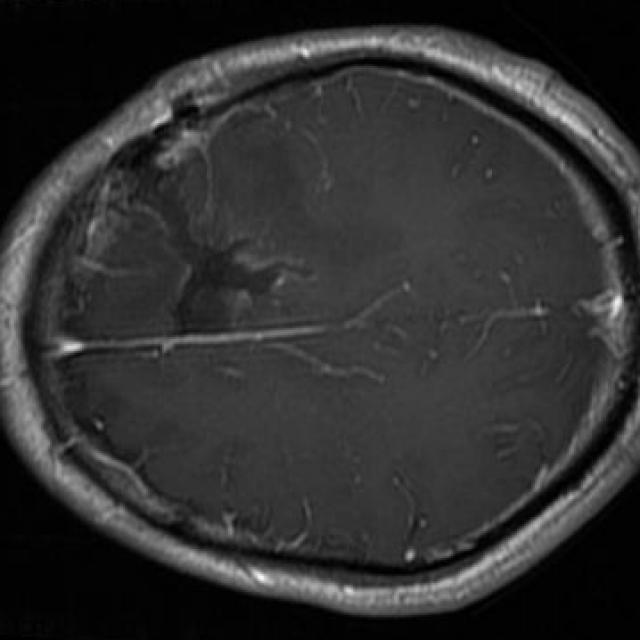glioma: (128, 168, 312, 332)
